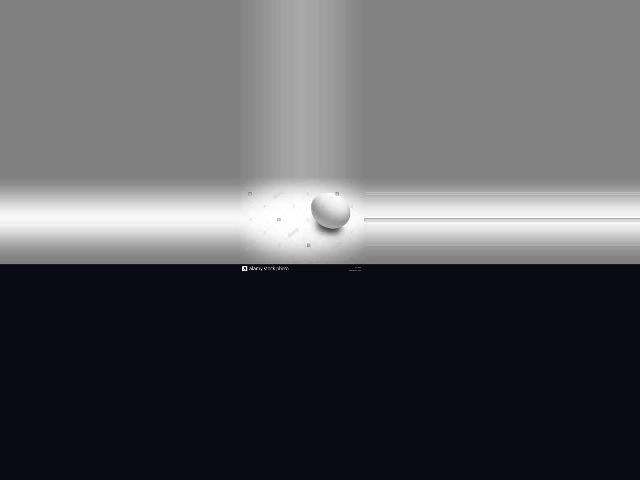egg: (312, 193, 351, 229)
